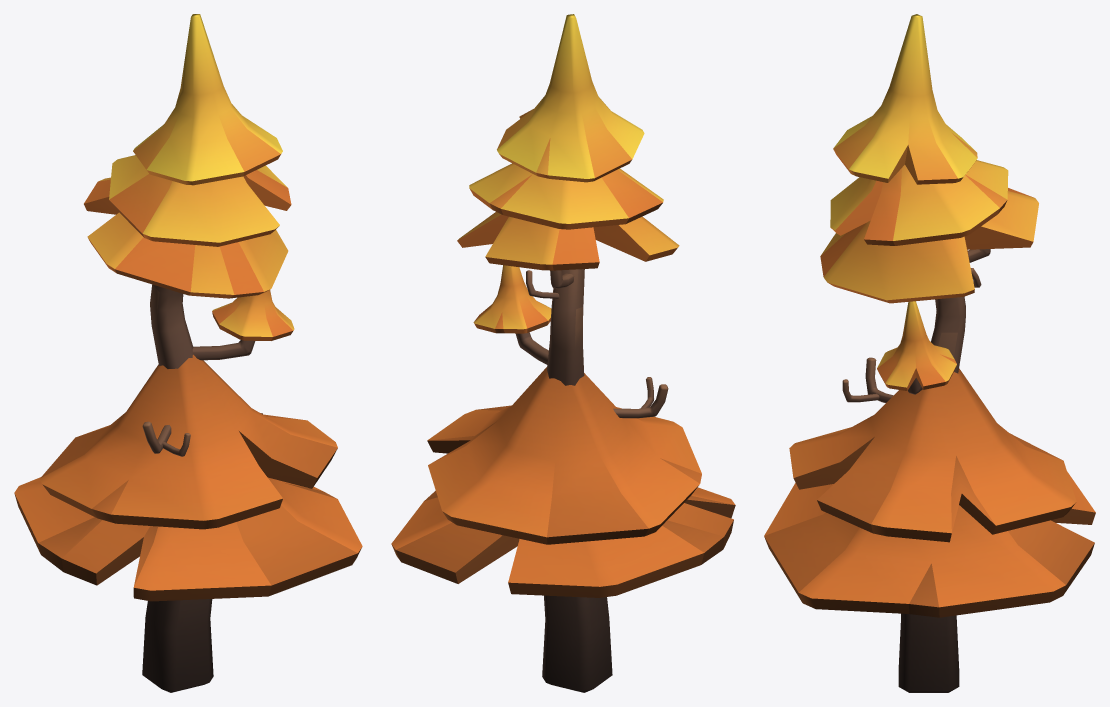
Rendered from pine_tree_col2_05.fbx.
3 views of the same model, side by side, from view 1: azimuth 30°, elevation 25°; view 2: azimuth 150°, elevation 25°; view 3: azimuth 270°, elevation 25° (orthographic). The views are drawn at different scales.
Visible parts, largest first — view 1: pine_tree_col2_05; view 2: pine_tree_col2_05; view 3: pine_tree_col2_05.
Boxes of the visible parts, left/top/right/bottom form: pine_tree_col2_05: left=14, top=14, right=362, bottom=692; pine_tree_col2_05: left=391, top=14, right=735, bottom=692; pine_tree_col2_05: left=764, top=14, right=1095, bottom=692.
Size of the model in its own units: 465 by 1043 by 465.
1 material, 1 textured.
